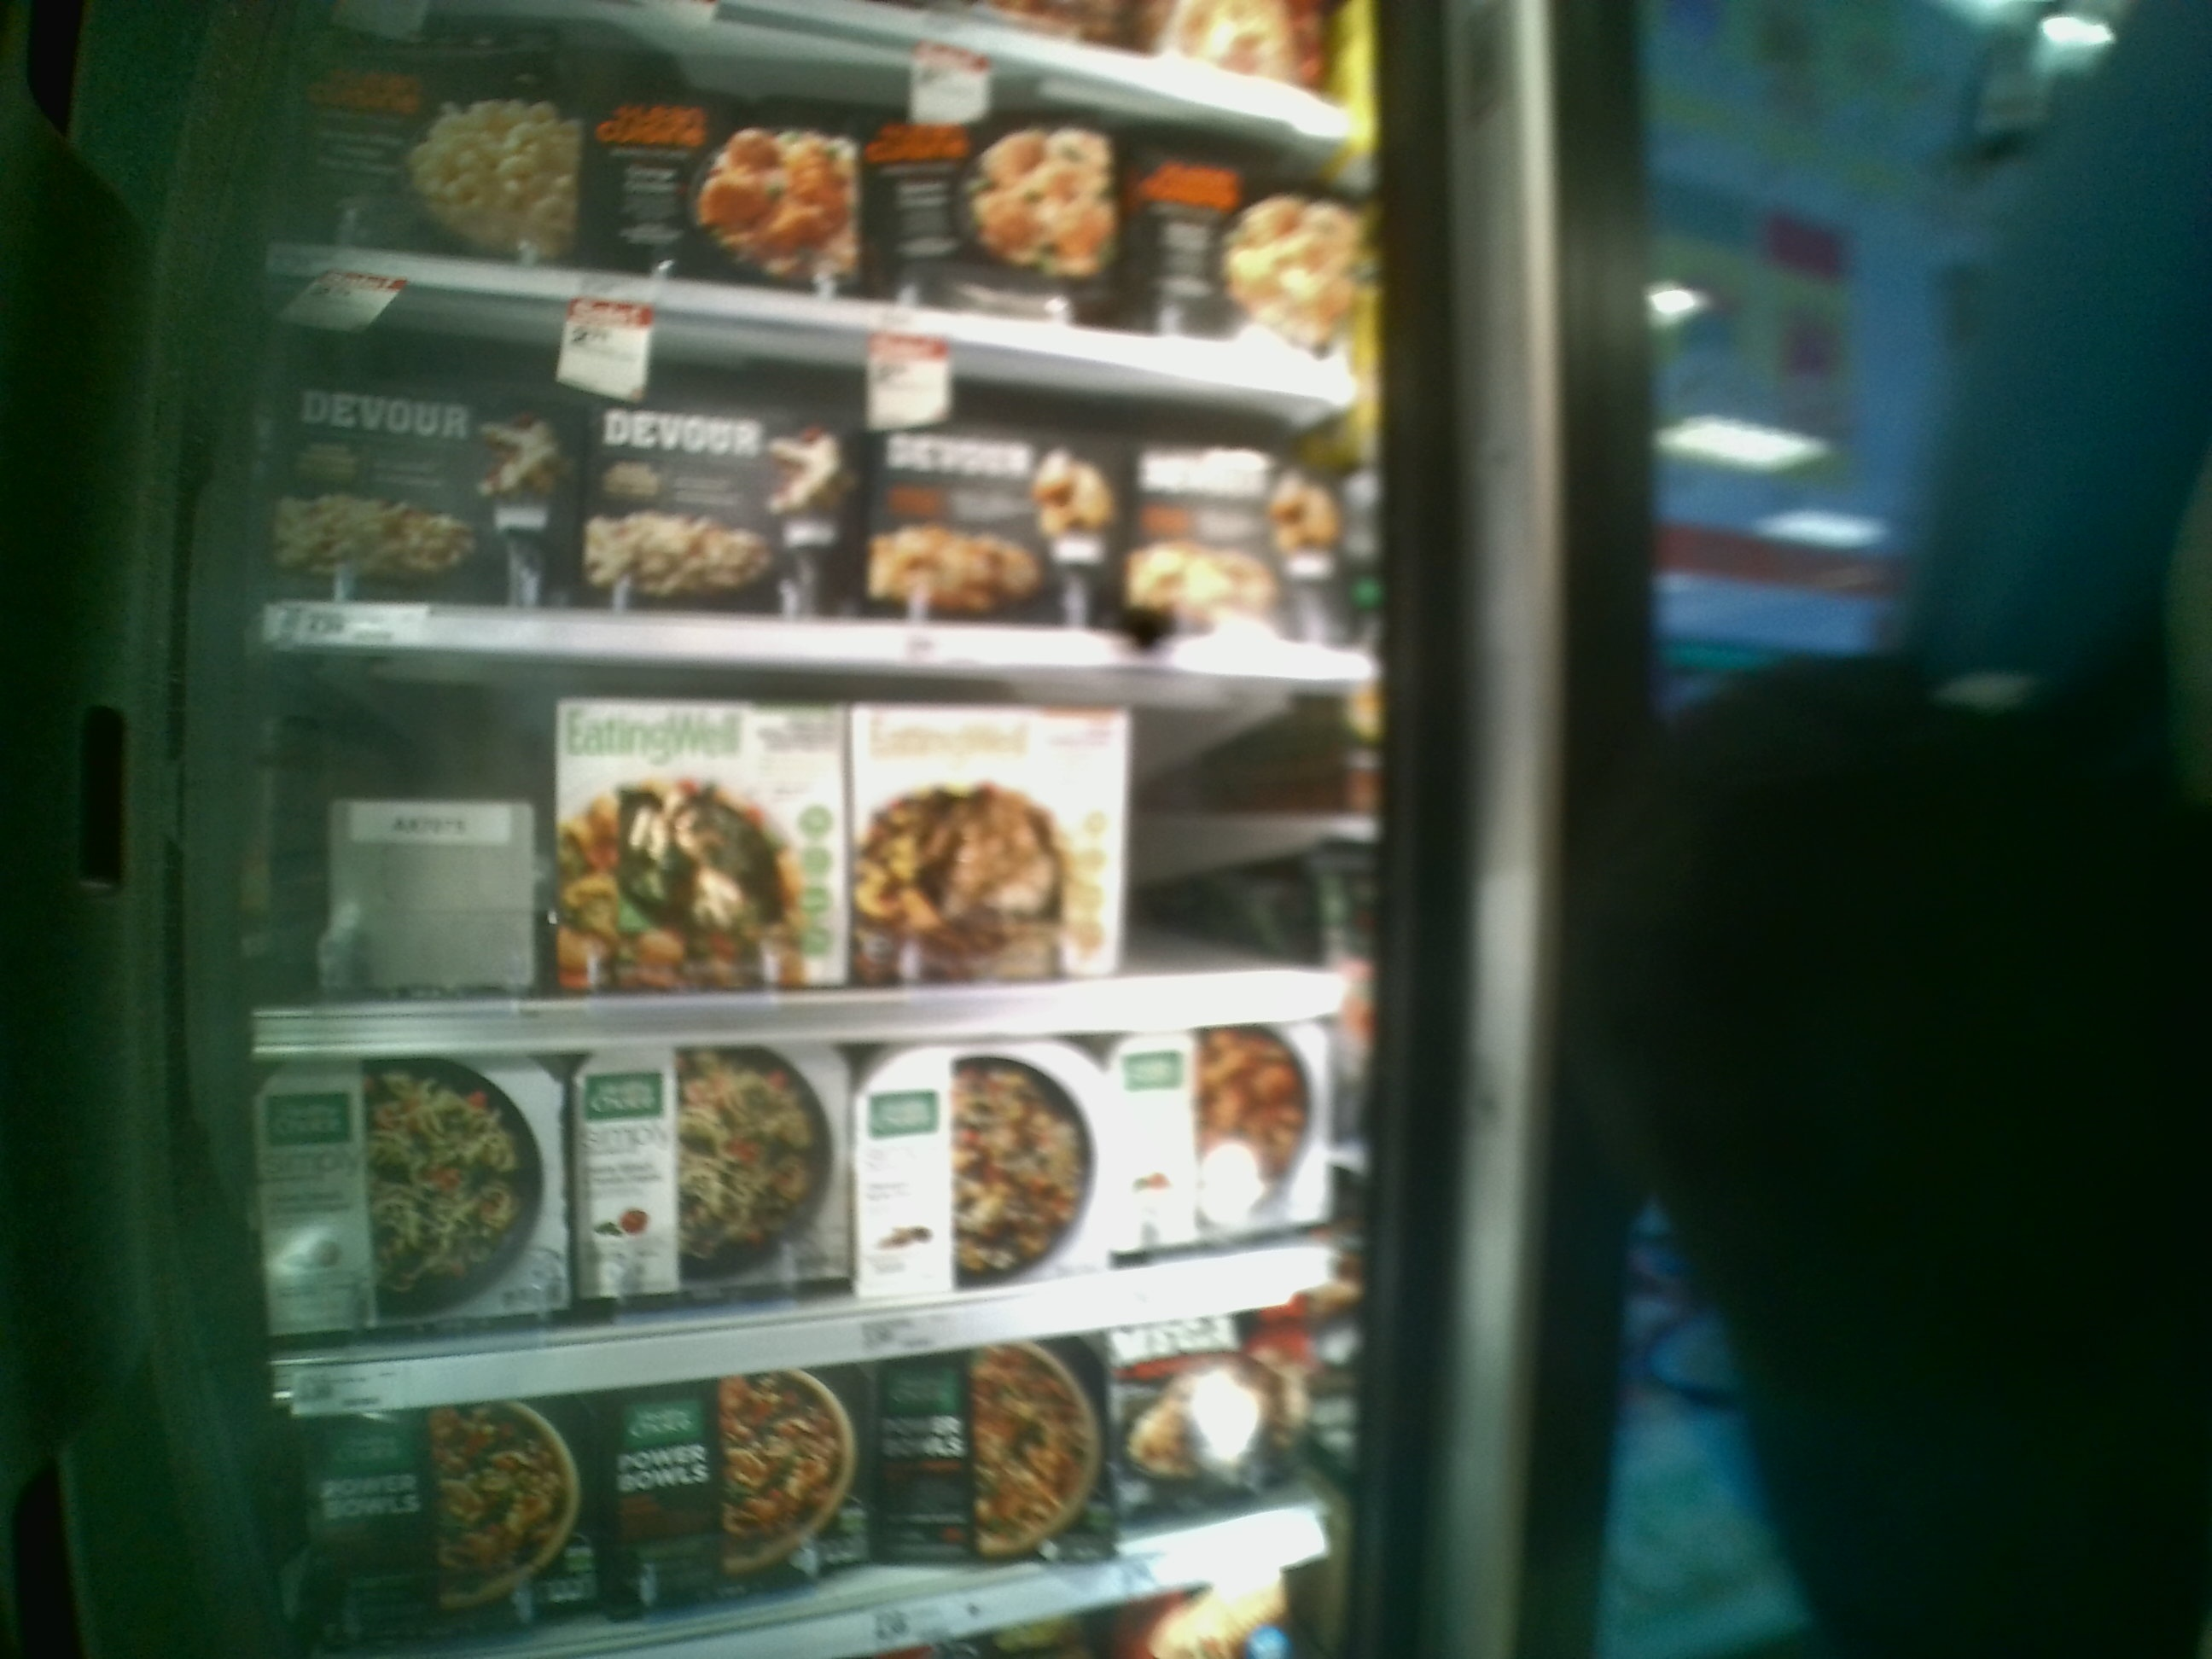shelf: (254, 261, 1383, 673), (249, 1018, 1371, 1424), (254, 647, 1385, 1042)
